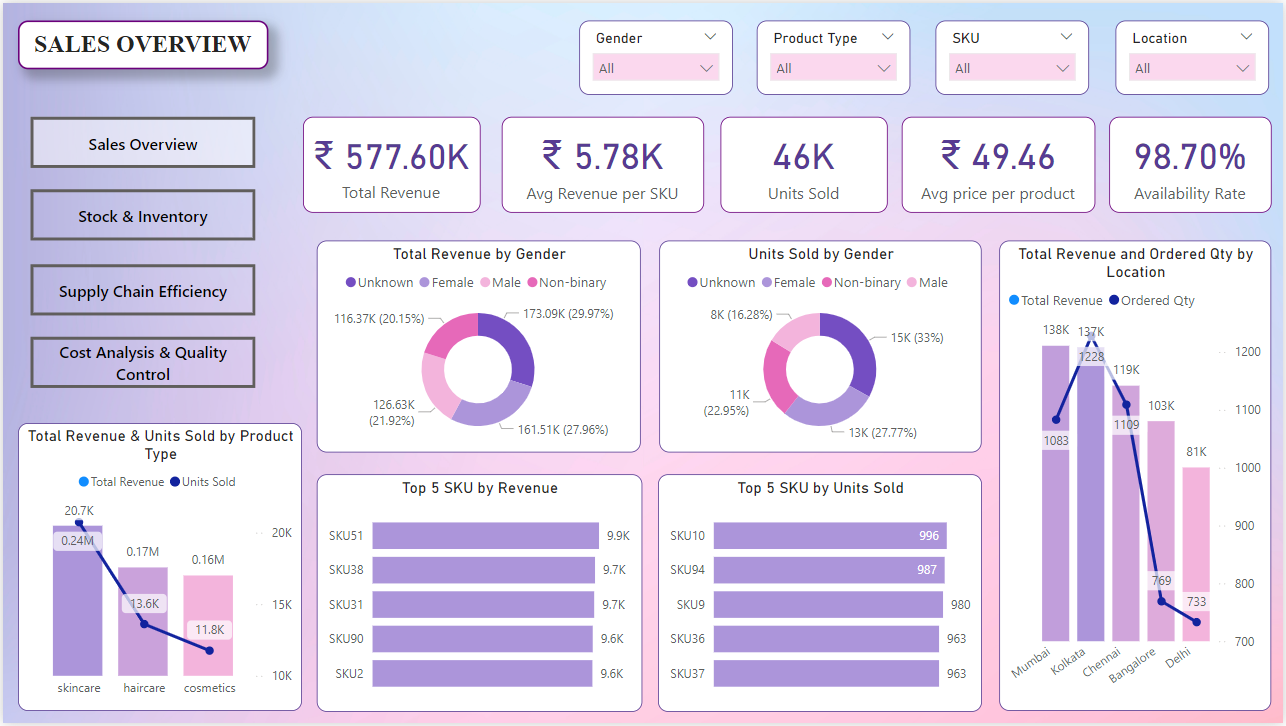

This screenshot's page, from the dashboard's own definition file:
{"tool":"powerbi","page":{"name":"Sales Overview","canvas":[1280,720],"ordinal":0},"visuals":[{"type":"lineStackedColumnComboChart","title":"Total Revenue & Units Sold by Product Type","fields":{"Category":["Supply Chain.Product type"],"Y":["measures (2).Total Revenue"],"Y2":["measures (2).Total products sold"]},"box":[14.7,420,284,288],"z":0},{"type":"donutChart","fields":{"Category":["Supply Chain.Customer Gender"],"Y":["measures (2).Total products sold"]},"box":[655.9,237.4,322.5,212],"z":1000},{"type":"donutChart","fields":{"Y":["measures (2).Total Revenue"],"Category":["Supply Chain.Customer Gender"]},"box":[314.2,237.4,323.8,212],"z":2000},{"type":"barChart","title":"Top 5 SKU by Revenue","fields":{"Category":["Supply Chain.SKU"],"Y":["measures (2).Total Revenue"]},"box":[314.2,470.7,325.2,237.4],"z":3000},{"type":"barChart","title":"Top 5 SKU by Units Sold","fields":{"Category":["Supply Chain.SKU"],"Y":["measures (2).Total products sold"]},"box":[654.5,470.7,323.8,237.4],"z":4000},{"type":"lineStackedColumnComboChart","fields":{"Category":["Supply Chain.Location"],"Y":["measures (2).Total Revenue"],"Y2":["measures (2).Ordered Qty"]},"box":[996.2,237.4,271.7,470.7],"z":5000},{"type":"textbox","box":[15,17.5,250,48.8],"z":6000},{"type":"card","fields":{"Values":["measures (2).Total Revenue"]},"box":[300,113.8,177.5,96.2],"z":7000},{"type":"card","fields":{"Values":["measures (2).Total products sold"]},"box":[717.5,113.8,167.5,96.2],"z":8000},{"type":"card","fields":{"Values":["measures (2).Avg price per product"]},"box":[898.8,113.8,193.8,96.2],"z":9000},{"type":"card","fields":{"Values":["measures (2).Availability Rate"]},"box":[1106.2,113.8,162.5,96.2],"z":10000},{"type":"card","fields":{"Values":["measures (2).Avg Revenue per product"]},"box":[498.8,113.8,202.5,96.2],"z":11000},{"type":"actionButton","box":[27.5,113.8,225,51.2],"z":12000},{"type":"actionButton","box":[27.5,186.2,225,51.2],"z":13000},{"type":"actionButton","box":[27.5,261.2,225,51.2],"z":14000},{"type":"actionButton","box":[27.5,333.8,225,51.2],"z":15000},{"type":"slicer","fields":{"Values":["Supply Chain.Customer Gender"]},"box":[576.3,17.8,153.7,74.1],"z":16000},{"type":"slicer","fields":{"Values":["Supply Chain.Product type"]},"box":[753.3,17.8,153.7,74.1],"z":17000},{"type":"slicer","fields":{"Values":["Supply Chain.SKU"]},"box":[933.1,17.8,153.7,74.1],"z":18000},{"type":"slicer","fields":{"Values":["Supply Chain.Location"]},"box":[1112.9,17.8,153.7,74.1],"z":19000}]}

Visuals, with their boxes in screenshot pixels (x1, y1, x2, y2), scaled from the page's 1280x720 canvas onto the 1286x726 screenshot:
"Total Revenue & Units Sold by Product Type" lineStackedColumnComboChart: pyautogui.locateOnScreen(15, 424, 300, 714)
donutChart - Supply Chain.Customer Gender x measures (2).Total products sold: pyautogui.locateOnScreen(659, 239, 983, 453)
donutChart - measures (2).Total Revenue x Supply Chain.Customer Gender: pyautogui.locateOnScreen(316, 239, 641, 453)
"Top 5 SKU by Revenue" barChart: pyautogui.locateOnScreen(316, 475, 642, 714)
"Top 5 SKU by Units Sold" barChart: pyautogui.locateOnScreen(658, 475, 983, 714)
lineStackedColumnComboChart - Supply Chain.Location x measures (2).Total Revenue: pyautogui.locateOnScreen(1001, 239, 1274, 714)
textbox: pyautogui.locateOnScreen(15, 18, 266, 67)
card - measures (2).Total Revenue: pyautogui.locateOnScreen(301, 115, 480, 212)
card - measures (2).Total products sold: pyautogui.locateOnScreen(721, 115, 889, 212)
card - measures (2).Avg price per product: pyautogui.locateOnScreen(903, 115, 1098, 212)
card - measures (2).Availability Rate: pyautogui.locateOnScreen(1111, 115, 1275, 212)
card - measures (2).Avg Revenue per product: pyautogui.locateOnScreen(501, 115, 705, 212)
actionButton: pyautogui.locateOnScreen(28, 115, 254, 166)
actionButton: pyautogui.locateOnScreen(28, 188, 254, 239)
actionButton: pyautogui.locateOnScreen(28, 263, 254, 315)
actionButton: pyautogui.locateOnScreen(28, 337, 254, 388)
slicer - Supply Chain.Customer Gender: pyautogui.locateOnScreen(579, 18, 733, 93)
slicer - Supply Chain.Product type: pyautogui.locateOnScreen(757, 18, 911, 93)
slicer - Supply Chain.SKU: pyautogui.locateOnScreen(937, 18, 1092, 93)
slicer - Supply Chain.Location: pyautogui.locateOnScreen(1118, 18, 1273, 93)
